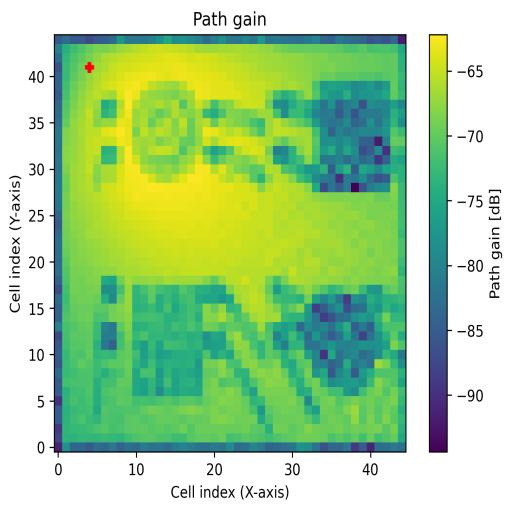Concrete: (312, 80, 390, 192)
Glass: (131, 79, 203, 182)
Metal: (296, 285, 391, 397)
Wood: (132, 284, 203, 397)
